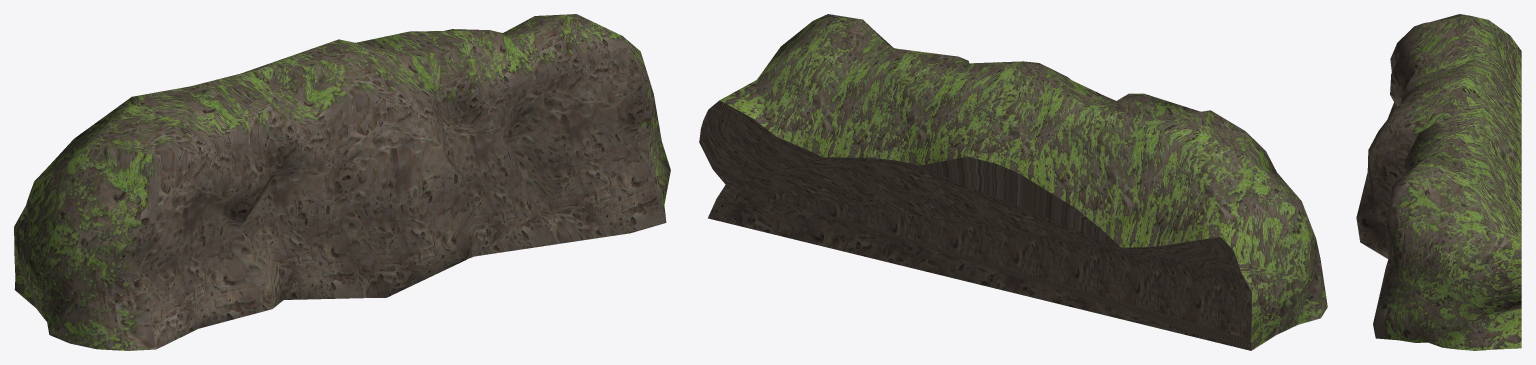
The model's file is thm_nboo_thed_imprv_seawall_rocks_s01_l1.fbx.
The picture shows the model from 3 angles, left to right: view 1: azimuth 30°, elevation 25°; view 2: azimuth 150°, elevation 25°; view 3: azimuth 270°, elevation 25°; orthographic projection. The views are drawn at different scales.
Parts seen in each view (by area): view 1: mesh_node; view 2: mesh_node; view 3: mesh_node.
Boxes of the visible parts, left/top/right/bottom form: mesh_node: left=14, top=14, right=670, bottom=350; mesh_node: left=699, top=14, right=1327, bottom=350; mesh_node: left=1356, top=14, right=1521, bottom=350.
Bounding box in the file's own units: 28.02 × 8.94 × 8.41.
